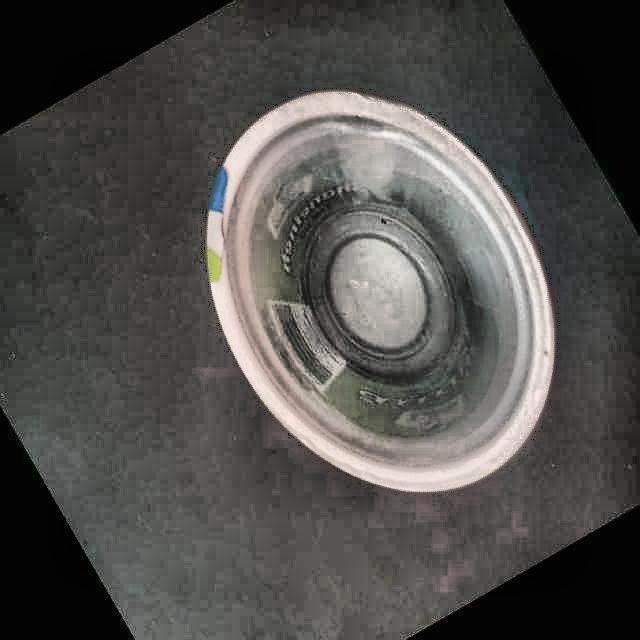plastic: (208, 92, 554, 491)
